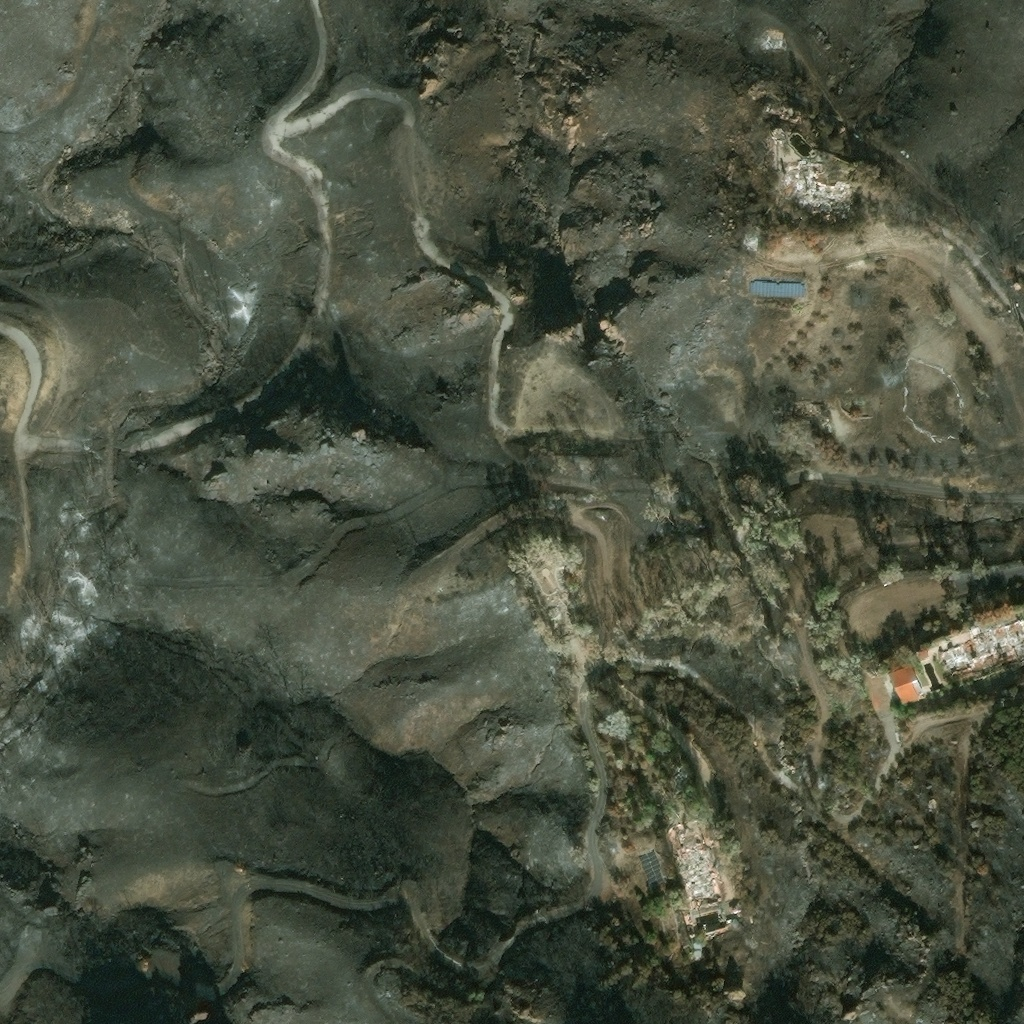0 no-damage: (886, 660, 926, 707), (752, 281, 807, 297)
3 destroyed: (939, 616, 1023, 686), (781, 160, 858, 218), (675, 822, 725, 909), (640, 847, 668, 885), (778, 101, 802, 123), (195, 977, 218, 998), (799, 400, 817, 420), (772, 125, 789, 146), (764, 33, 784, 47)
